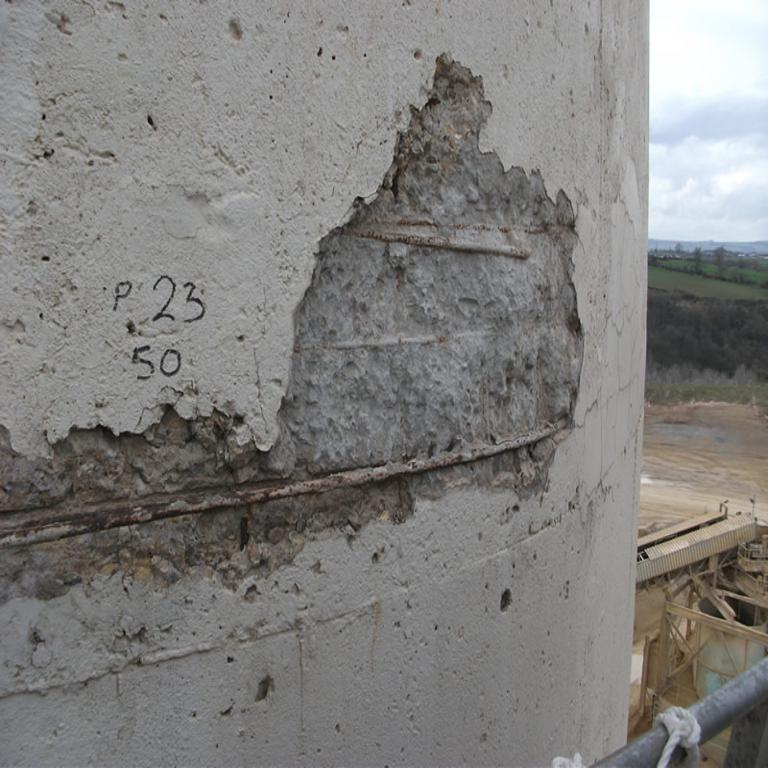exposed_rebar: (0, 424, 561, 550)
spalling: (0, 58, 582, 598)
